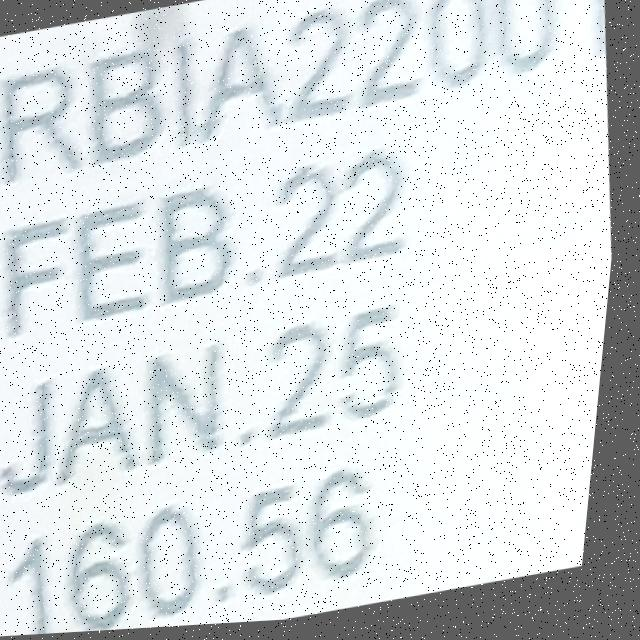sentence: (4, 0, 607, 183), (8, 311, 406, 494), (10, 155, 408, 336), (23, 473, 383, 636)
